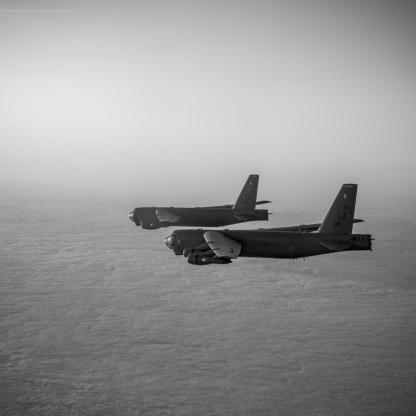B52: (165, 184, 377, 267), (129, 175, 274, 231)
